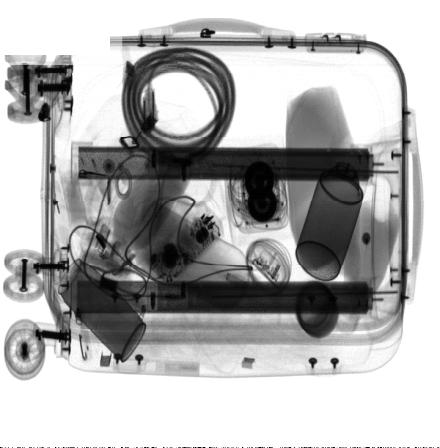Sprayer: (296, 139, 370, 281)
